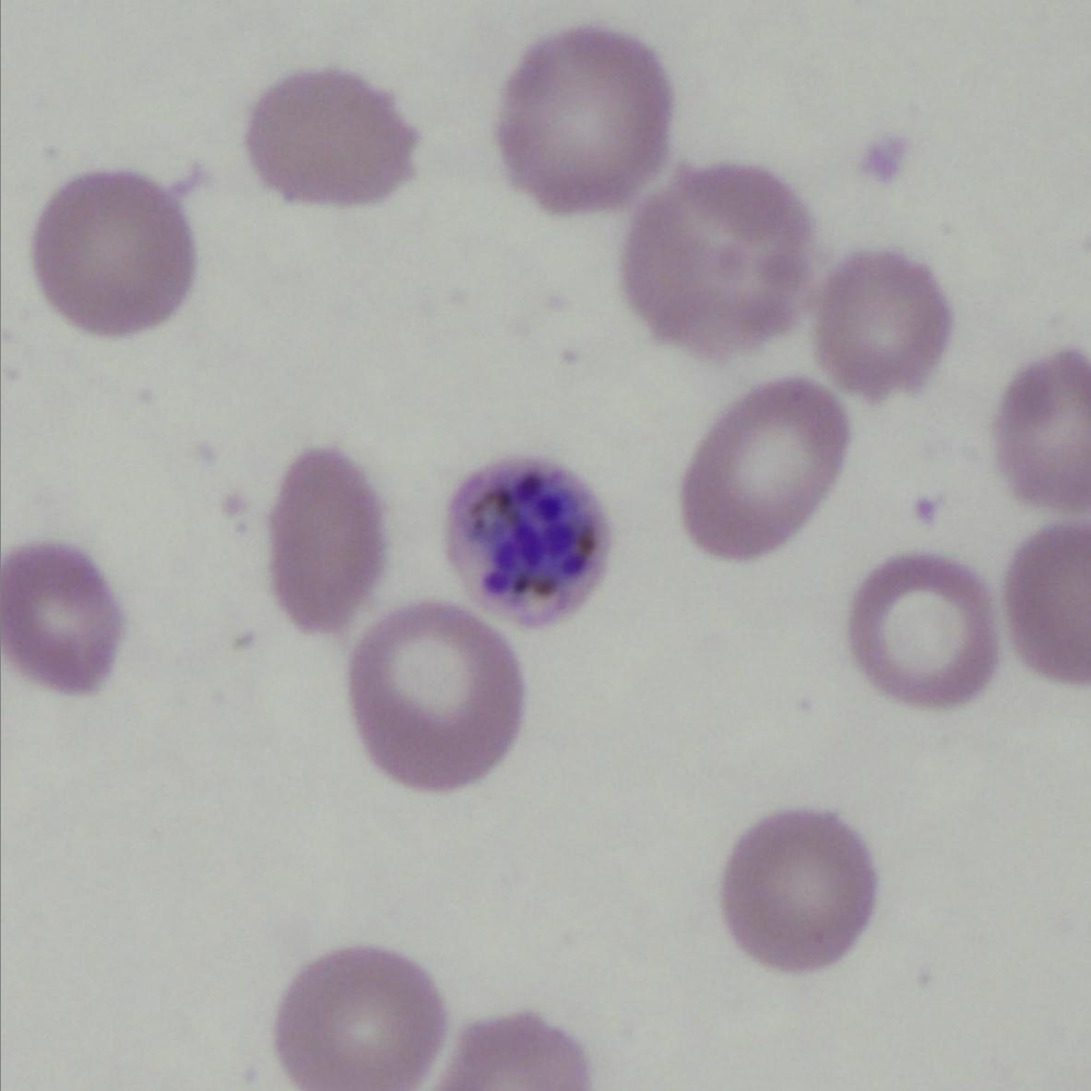Infected: (437, 450, 610, 637)
Uninfected: (630, 170, 823, 368), (341, 607, 524, 789), (679, 376, 854, 563), (498, 26, 673, 208), (271, 936, 454, 1091), (722, 803, 880, 981), (31, 167, 192, 331), (264, 438, 395, 633), (249, 66, 419, 212), (845, 554, 999, 713), (802, 250, 950, 409), (0, 542, 122, 703)
